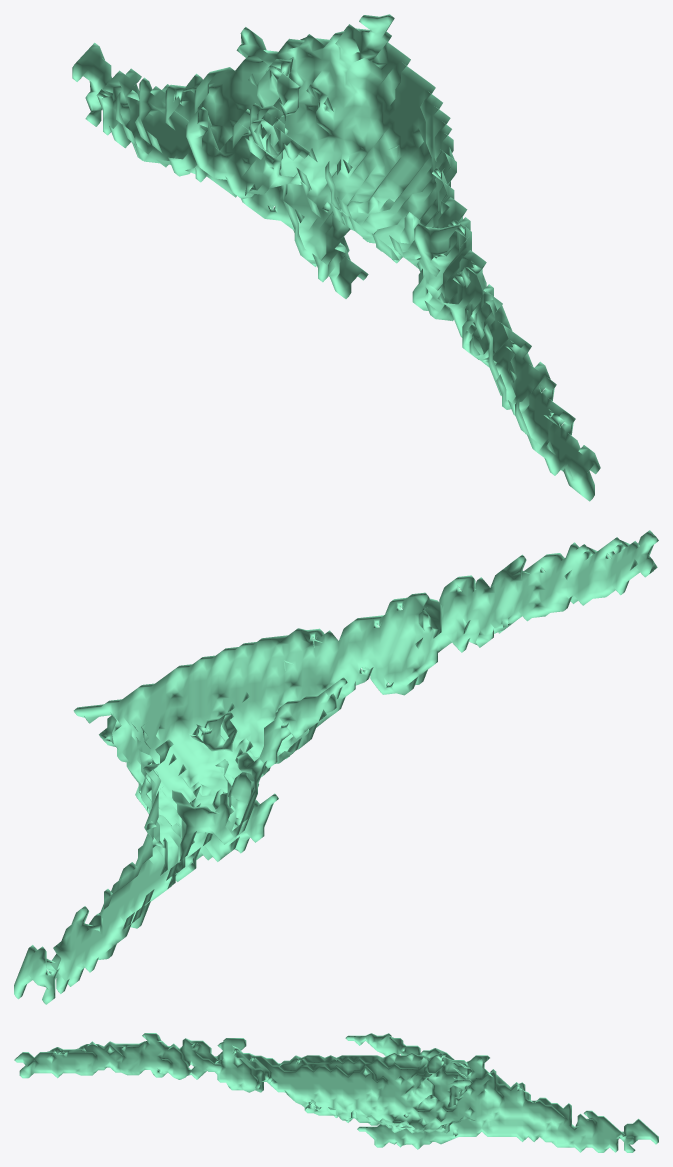
Rendered from osteocyte_150.glb.
3 renders of one model, top to bottom at view 1: azimuth 30°, elevation 25°; view 2: azimuth 150°, elevation 25°; view 3: azimuth 270°, elevation 25°, orthographic. The views are drawn at different scales.
Parts seen in each view (by area): view 1: osteocyte_150; view 2: osteocyte_150; view 3: osteocyte_150.
Boxes of the visible parts, bbox=[...] form: osteocyte_150: bbox=[72, 14, 600, 501]; osteocyte_150: bbox=[14, 530, 658, 1004]; osteocyte_150: bbox=[14, 1033, 658, 1152].
Size of the model in its own units: 12.52 by 9.15 by 53.44.
